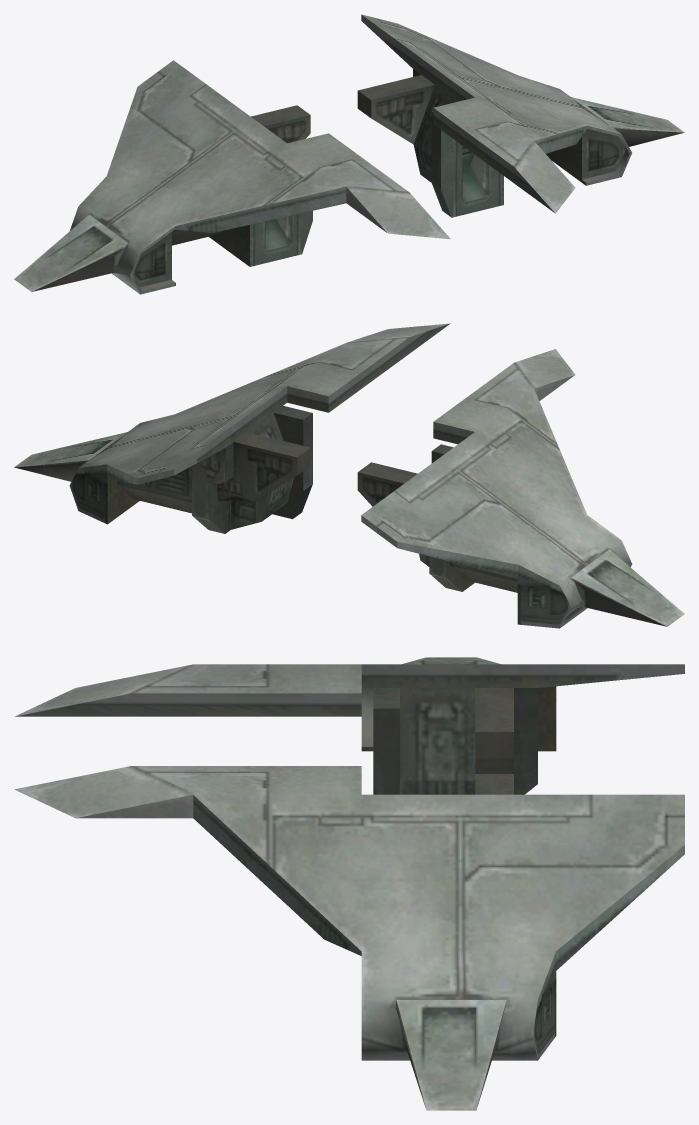
File: black_sun_fighter_light_struct_s02_l1.fbx
The picture shows the model from 3 angles, top to bottom: view 1: azimuth 30°, elevation 25°; view 2: azimuth 150°, elevation 25°; view 3: azimuth 270°, elevation 25°; orthographic projection. The views are drawn at different scales.
Parts seen in each view (by area): view 1: mesh_node; view 2: mesh_node; view 3: mesh_node.
Boxes of the visible parts, bbox=[...] form: mesh_node: bbox=[14, 14, 684, 294]; mesh_node: bbox=[14, 323, 684, 628]; mesh_node: bbox=[14, 657, 684, 1110].
Size of the model in its own units: 15.82 by 2.74 by 9.89.
